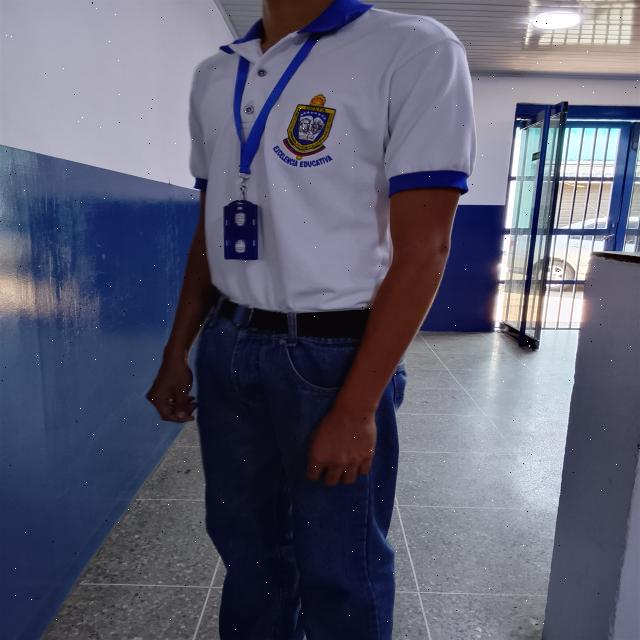carnet: (223, 204, 259, 260)
pantalon_oscuro: (195, 318, 408, 640)
uniforme_superior: (188, 0, 476, 312)
